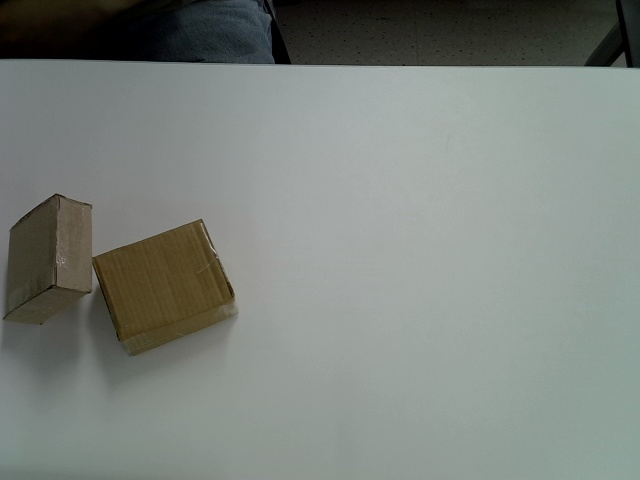normal: (91, 218, 236, 356), (7, 193, 93, 326)
